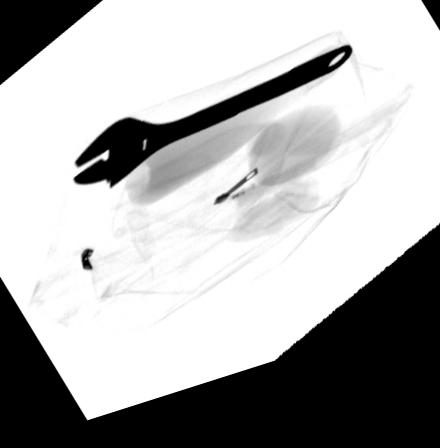Wrench: (71, 65, 355, 198)
